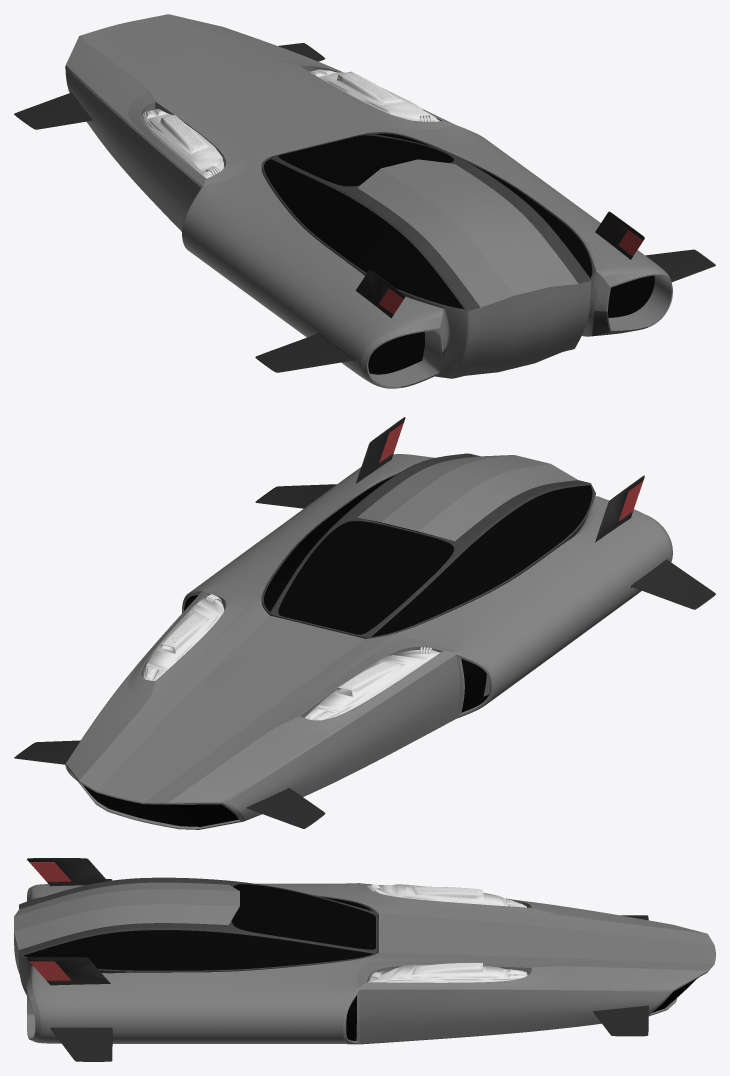
Rendered from hover-car.glb.
The picture shows the model from 3 angles, top to bottom: view 1: azimuth 30°, elevation 25°; view 2: azimuth 150°, elevation 25°; view 3: azimuth 270°, elevation 25°; orthographic projection. The views are drawn at different scales.
Visible parts, largest first — view 1: LA_Air_Rider_Main, LA_Air_Rider_Stabilizers, LA_Air_Rider_AntiGravity_Engines; view 2: LA_Air_Rider_Main, LA_Air_Rider_Stabilizers, LA_Air_Rider_AntiGravity_Engines; view 3: LA_Air_Rider_Main, LA_Air_Rider_Stabilizers, LA_Air_Rider_AntiGravity_Engines, LA_Air_Rider_Left_Steering_Fin, LA_Air_Rider_Right_Steering_Fin.
Part boxes in pixels (bbox=[...]): LA_Air_Rider_Main: bbox=[65, 14, 672, 388]; LA_Air_Rider_Stabilizers: bbox=[14, 43, 715, 372]; LA_Air_Rider_AntiGravity_Engines: bbox=[141, 69, 440, 178]; LA_Air_Rider_Main: bbox=[65, 453, 672, 829]; LA_Air_Rider_Stabilizers: bbox=[14, 417, 715, 828]; LA_Air_Rider_AntiGravity_Engines: bbox=[142, 594, 440, 720]; LA_Air_Rider_Main: bbox=[14, 877, 715, 1044]; LA_Air_Rider_Stabilizers: bbox=[27, 858, 648, 1061]; LA_Air_Rider_AntiGravity_Engines: bbox=[367, 884, 528, 982]; LA_Air_Rider_Left_Steering_Fin: bbox=[29, 862, 71, 881]; LA_Air_Rider_Right_Steering_Fin: bbox=[29, 961, 71, 980].
Bounding box in the file's own units: 3.46 × 0.9064 × 5.62.
4 materials, 1 textured.
